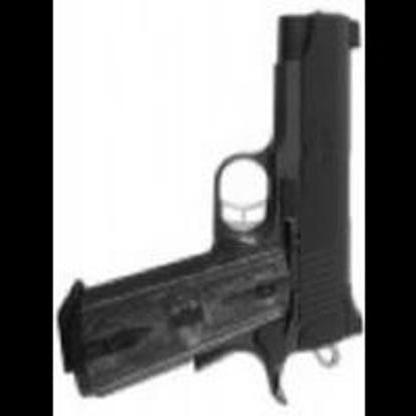weapon: (57, 10, 361, 405)
